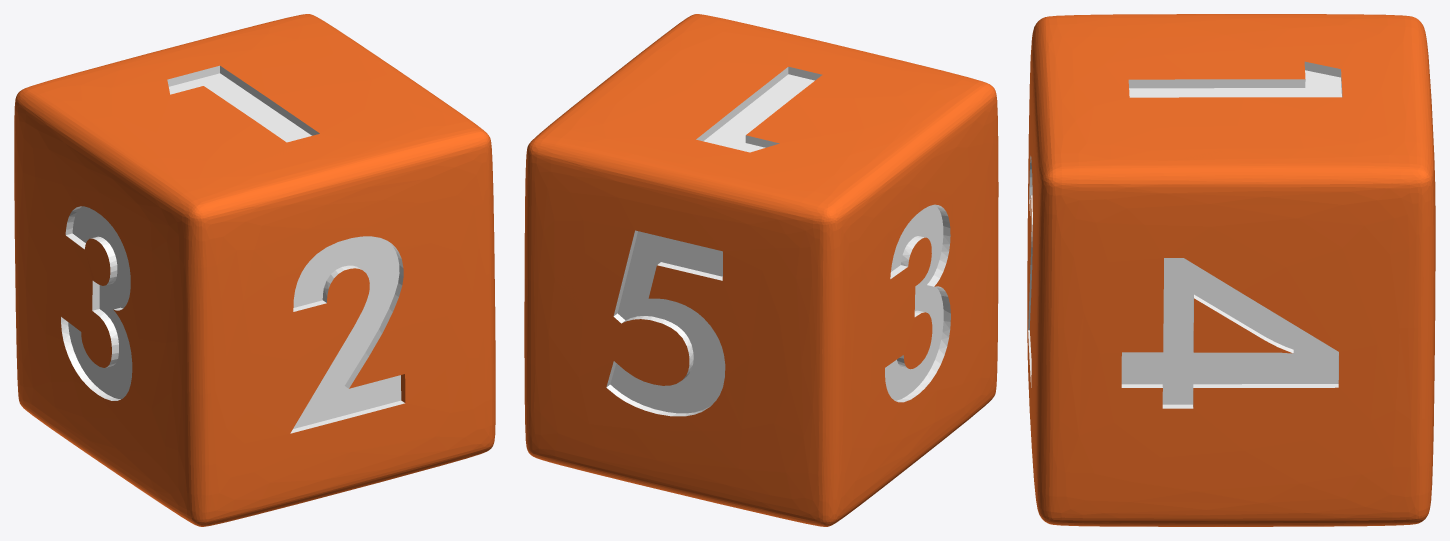
The picture shows the model from 3 angles, left to right: view 1: azimuth 30°, elevation 25°; view 2: azimuth 150°, elevation 25°; view 3: azimuth 270°, elevation 25°; orthographic projection. The views are drawn at different scales.
Parts seen in each view (by area): view 1: D6 Base; view 2: D6 Base; view 3: D6 Base.
Part boxes in pixels (bbox=[...]): D6 Base: bbox=[14, 14, 495, 526]; D6 Base: bbox=[524, 14, 998, 526]; D6 Base: bbox=[1027, 14, 1435, 526].
Bounding box in the file's own units: 32.32 × 32.04 × 32.35.
